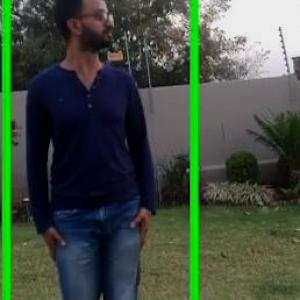follow: (38, 0, 216, 299), (27, 0, 151, 299)
